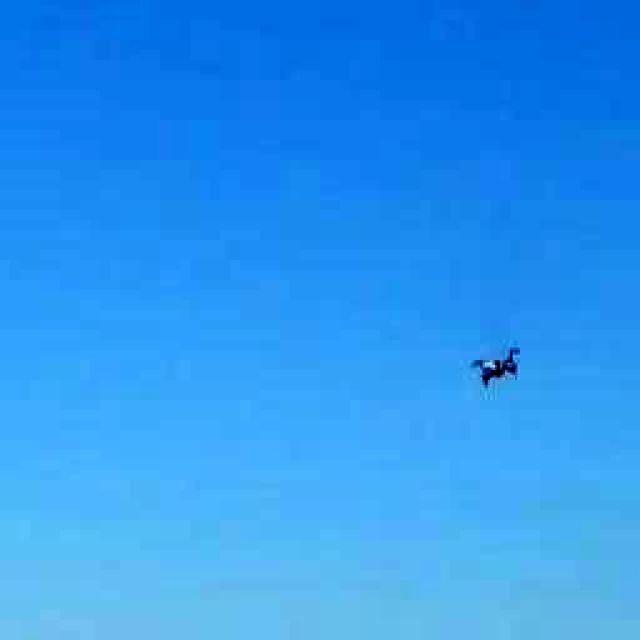bird: (456, 336, 534, 404)
